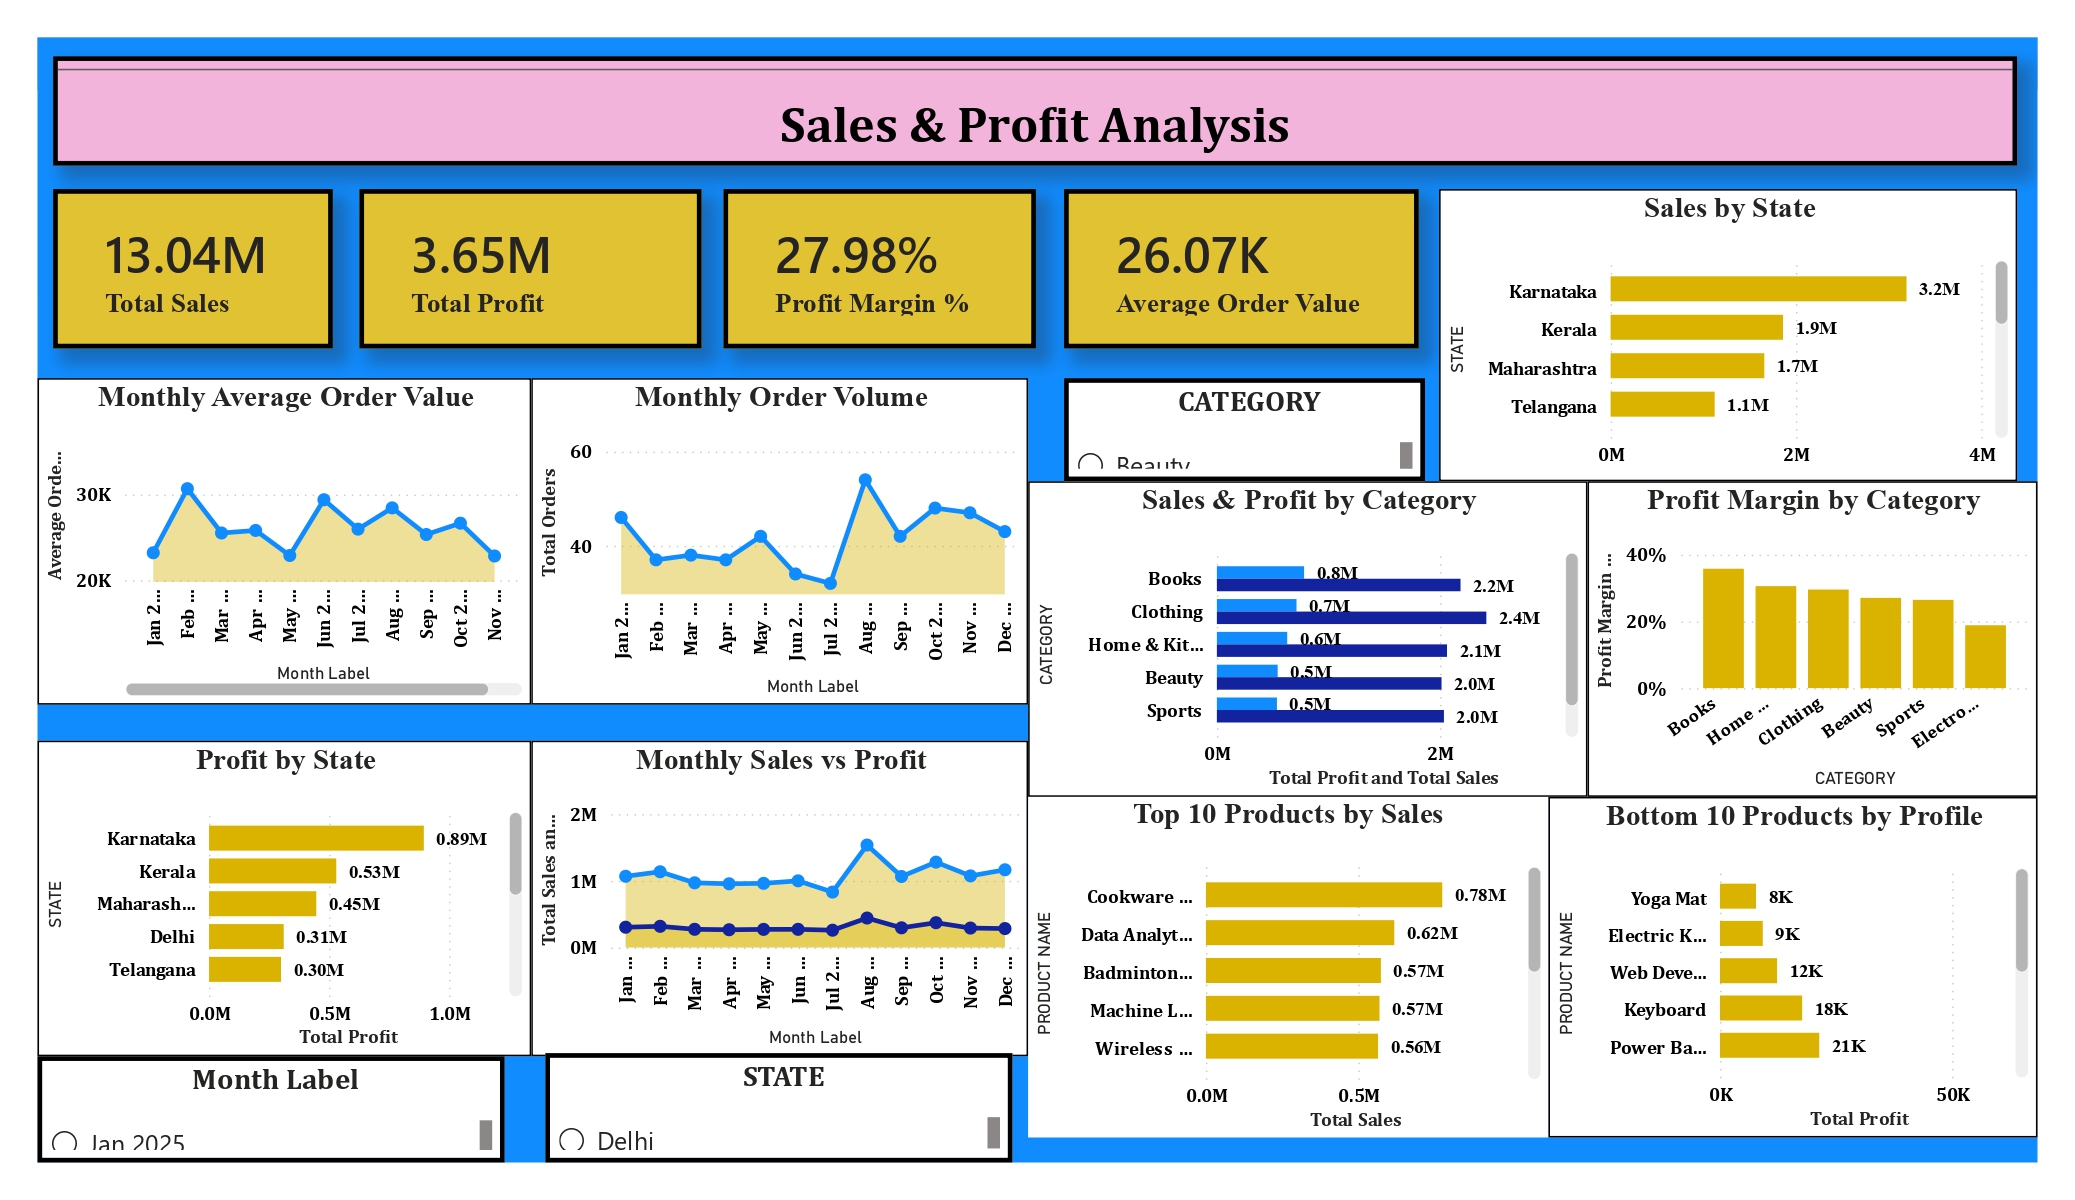

Layout of this report page (visuals, bound fields, positions):
{"tool":"powerbi","page":{"name":"Sales & Profit Analysis","canvas":[1280,720],"ordinal":1},"visuals":[{"type":"textbox","box":[9.6,12.3,1257,70],"z":0},{"type":"cardVisual","fields":{"Data":["customers.Total Sales"]},"box":[9.6,97.4,179.8,101.5],"z":1000},{"type":"cardVisual","fields":{"Data":["customers.Total Profit"]},"box":[205.8,97.4,219.6,101.5],"z":2000},{"type":"cardVisual","fields":{"Data":["customers.Profit Margin %"]},"box":[439.1,97.4,200.3,101.5],"z":3000},{"type":"cardVisual","fields":{"Data":["customers.Average Order Value"]},"box":[657.3,97.4,226.4,101.5],"z":4000},{"type":"lineChart","title":"Monthly Sales vs Profit","fields":{"Category":["orders.Month Label"],"Y":["customers.Total Sales","customers.Total Profit"]},"box":[315.6,450.1,318.4,201.7],"z":5000},{"type":"clusteredBarChart","title":"Sales & Profit by Category","fields":{"Y":["customers.Total Profit","customers.Total Sales"],"Category":["products.CATEGORY"]},"box":[634,284,358.1,201.7],"z":6000},{"type":"clusteredBarChart","title":"Top 10 Products by Sales","fields":{"Category":["products.PRODUCT NAME"],"Y":["customers.Total Sales"]},"box":[634,485.8,333.4,218.2],"z":7000},{"type":"clusteredBarChart","title":"Bottom 10 Products by Profile","fields":{"Category":["products.PRODUCT NAME"],"Y":["customers.Total Profit"]},"box":[967.4,485.8,312.9,218.2],"z":8000},{"type":"clusteredBarChart","title":"Sales by State","fields":{"Category":["customers.STATE"],"Y":["customers.Total Sales"]},"box":[897.4,97.4,369.1,186.6],"z":9000},{"type":"clusteredBarChart","title":"Profit by State","fields":{"Y":["customers.Total Profit"],"Category":["customers.STATE"]},"box":[0,450.1,315.6,201.7],"z":10000},{"type":"clusteredColumnChart","title":"Profit Margin by Category","fields":{"Category":["products.CATEGORY"],"Y":["customers.Profit Margin %"]},"box":[992.1,284,288.2,201.7],"z":11000},{"type":"lineChart","title":"Monthly Order Volume","fields":{"Category":["orders.Month Label"],"Y":["customers.Total Orders"]},"box":[315.6,218.2,318.4,208.6],"z":12000},{"type":"lineChart","title":"Monthly Average Order Value","fields":{"Category":["orders.Month Label"],"Y":["customers.Average Order Value"]},"box":[0,218.2,315.6,208.6],"z":13000},{"type":"listSlicer","fields":{"Values":["orders.Month Label"]},"box":[0,651.8,299.1,68.6],"z":14000},{"type":"listSlicer","fields":{"Values":["customers.STATE"]},"box":[325.2,650.4,299.1,70],"z":15000},{"type":"listSlicer","fields":{"Values":["products.CATEGORY"]},"box":[657.3,218.2,230.5,65.9],"z":16000}]}

Visuals, with their boxes in screenshot pixels (x1, y1, x2, y2):
textbox: x1=58, y1=57, x2=1996, y2=165
cardVisual - customers.Total Sales: x1=58, y1=188, x2=335, y2=345
cardVisual - customers.Total Profit: x1=361, y1=188, x2=699, y2=345
cardVisual - customers.Profit Margin %: x1=720, y1=188, x2=1029, y2=345
cardVisual - customers.Average Order Value: x1=1057, y1=188, x2=1406, y2=345
"Monthly Sales vs Profit" lineChart: x1=530, y1=732, x2=1021, y2=1043
"Sales & Profit by Category" clusteredBarChart: x1=1021, y1=476, x2=1573, y2=787
"Top 10 Products by Sales" clusteredBarChart: x1=1021, y1=787, x2=1535, y2=1123
"Bottom 10 Products by Profile" clusteredBarChart: x1=1535, y1=787, x2=2017, y2=1123
"Sales by State" clusteredBarChart: x1=1427, y1=188, x2=1996, y2=476
"Profit by State" clusteredBarChart: x1=43, y1=732, x2=530, y2=1043
"Profit Margin by Category" clusteredColumnChart: x1=1573, y1=476, x2=2017, y2=787
"Monthly Order Volume" lineChart: x1=530, y1=374, x2=1021, y2=696
"Monthly Average Order Value" lineChart: x1=43, y1=374, x2=530, y2=696
listSlicer - orders.Month Label: x1=43, y1=1043, x2=504, y2=1149
listSlicer - customers.STATE: x1=545, y1=1041, x2=1006, y2=1149
listSlicer - products.CATEGORY: x1=1057, y1=374, x2=1412, y2=476
